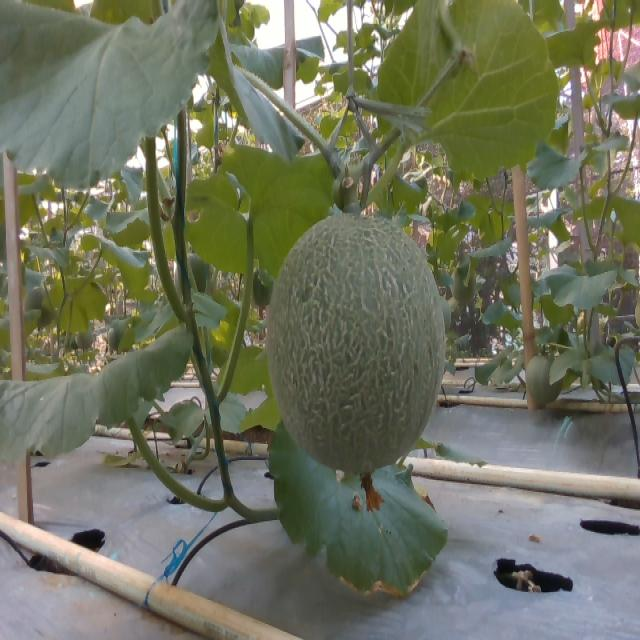melon: (268, 213, 446, 474)
